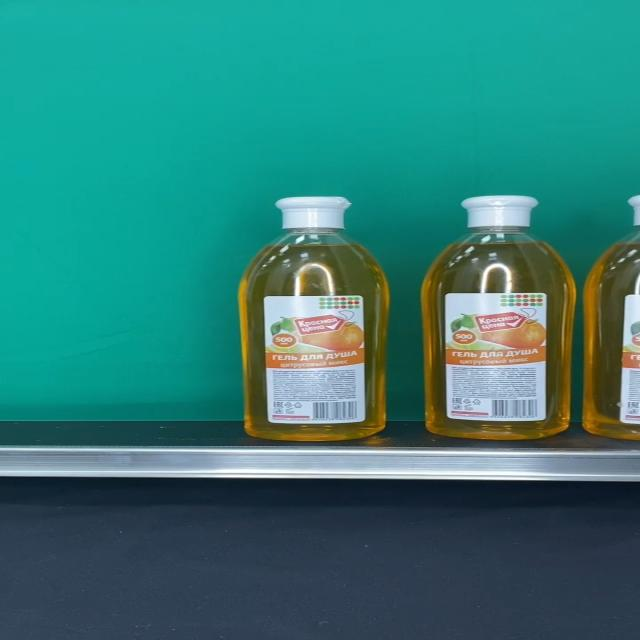Bottle: (421, 194, 576, 440), (238, 196, 390, 440)
Cap: (458, 195, 540, 228), (274, 197, 352, 231)
